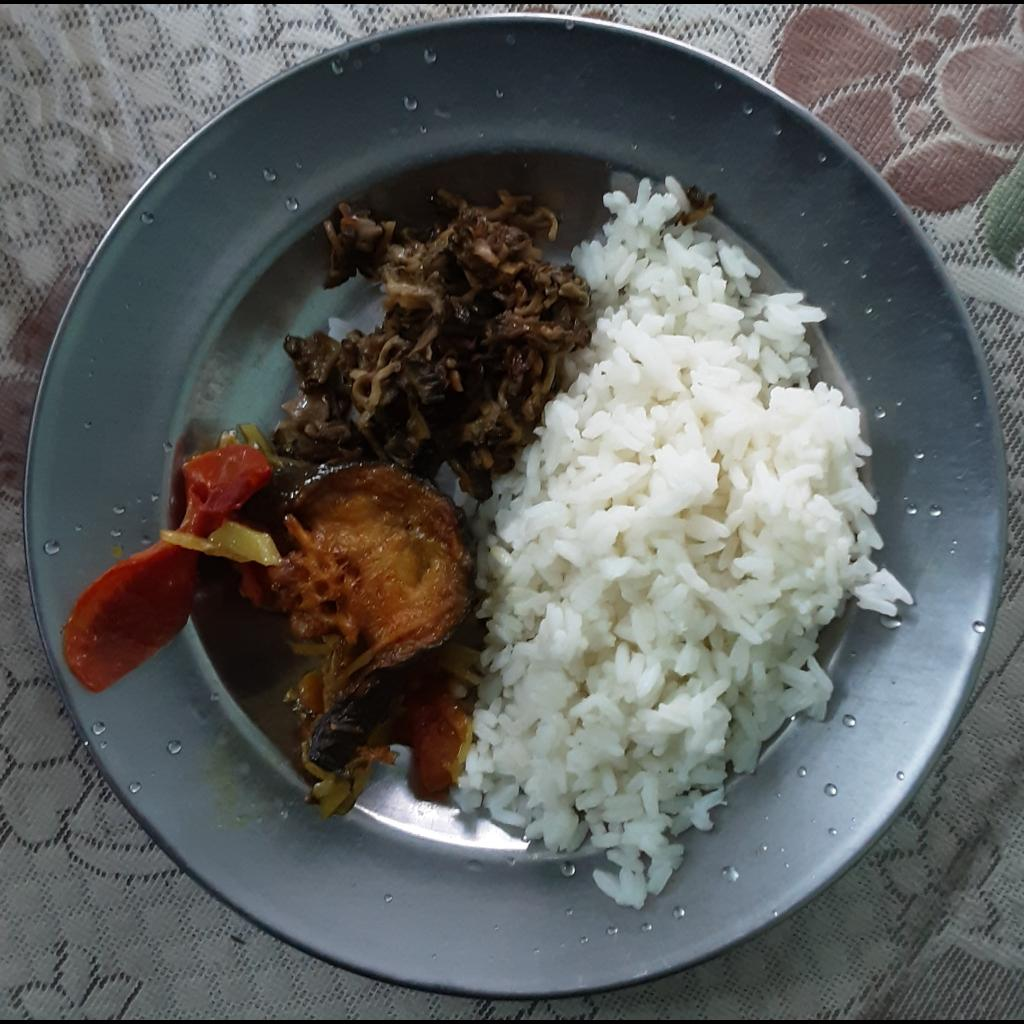fish: (236, 453, 483, 776)
korola-vaji: (274, 188, 594, 502)
rice: (424, 171, 917, 912)
tomato: (302, 678, 472, 817), (60, 539, 202, 700), (165, 440, 272, 538)
